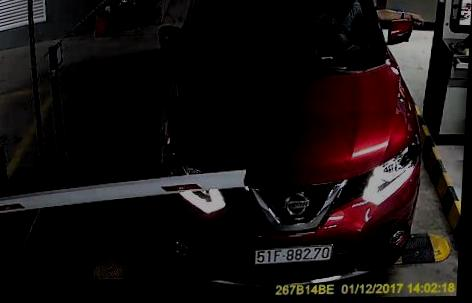License_Plate: (252, 242, 336, 267)
